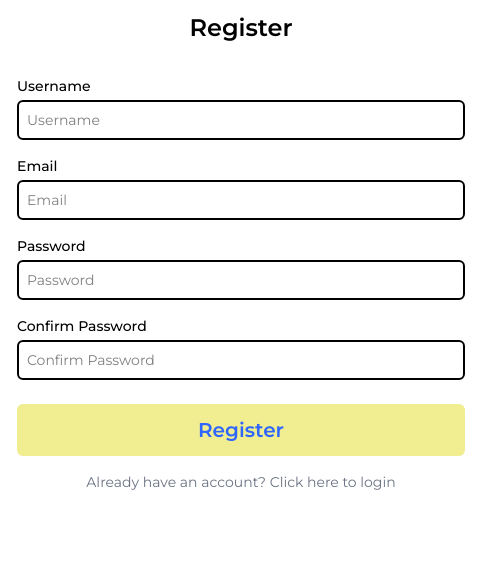
Scenario: RegisterView › should display error message if password is too short
The image size is (483, 587).
Step 1. Type "short" into the password field with placeholder "Password" → (241, 280), box 17,260 -> 465,300
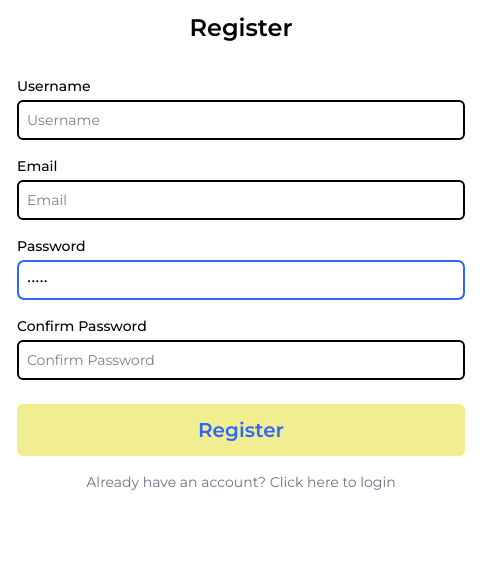
Step 2. Click the button "Register" → (241, 430), box 17,404 -> 465,456
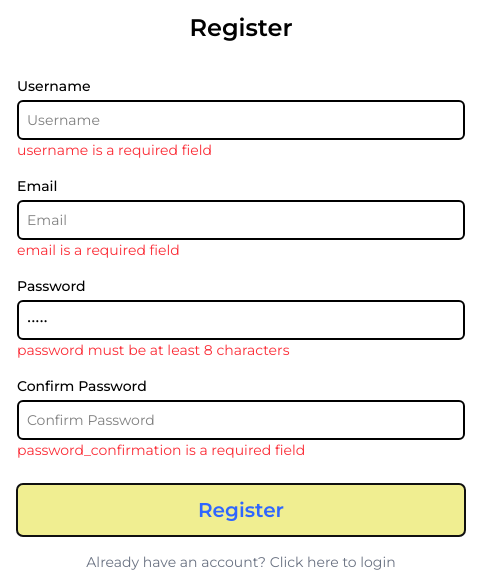
Check: the text "password must be at least 8 characters" is shown, box 17,341 -> 290,359
